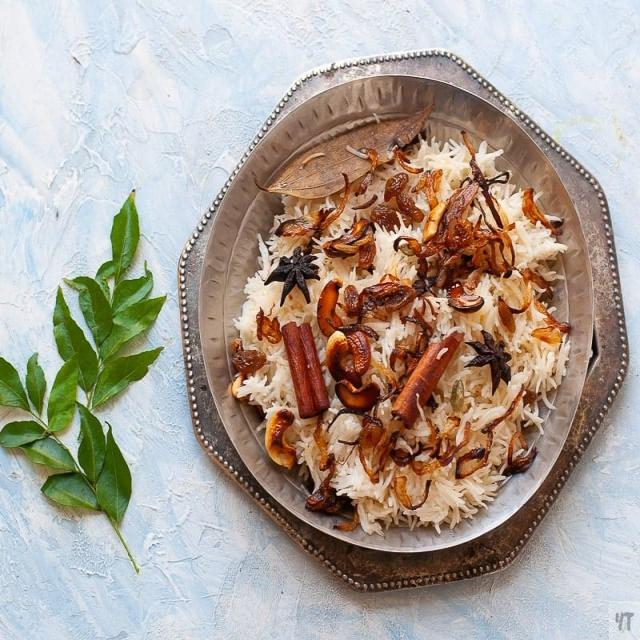nei satham: (226, 103, 572, 557)
